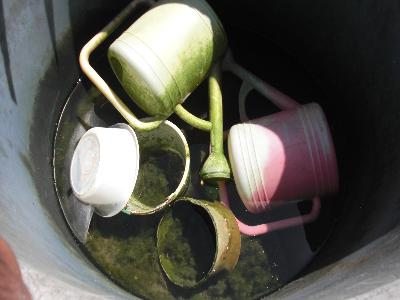bowl: (103, 2, 233, 127), (225, 99, 346, 218), (155, 196, 241, 295), (120, 116, 189, 218), (68, 122, 139, 219)
